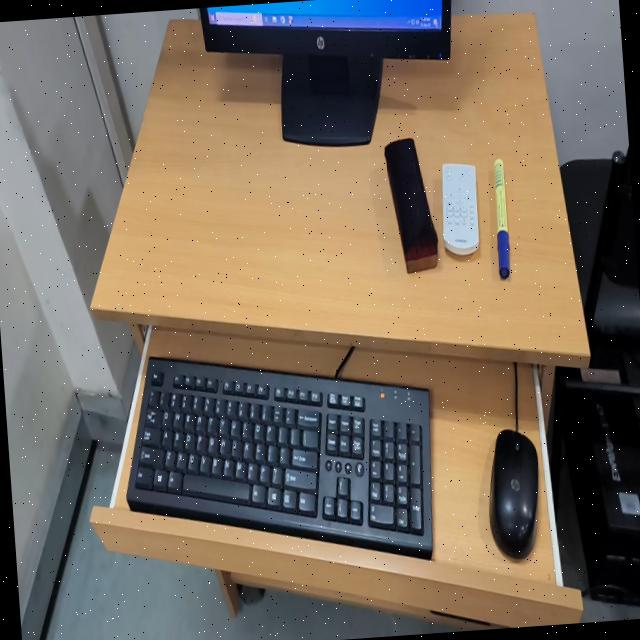Chair: (560, 145, 640, 337)
Keyboard: (124, 357, 432, 559)
Monitor: (198, 0, 451, 146)
Mouse: (489, 430, 538, 559)
